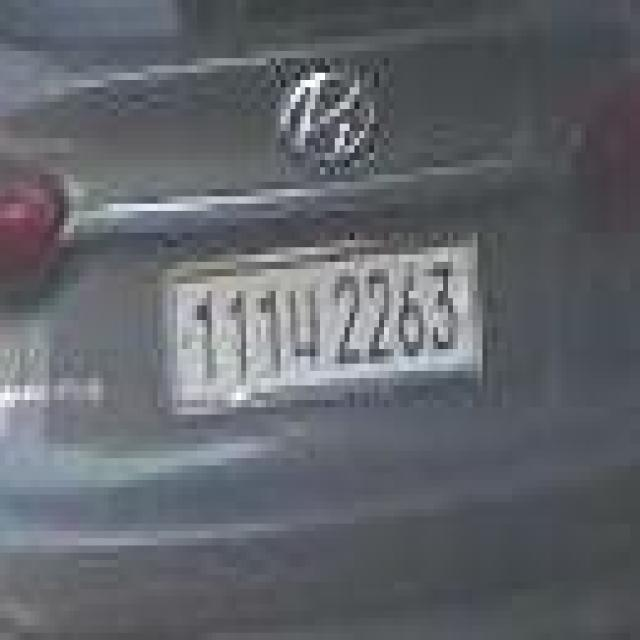illegal_plate: (155, 235, 491, 420)
